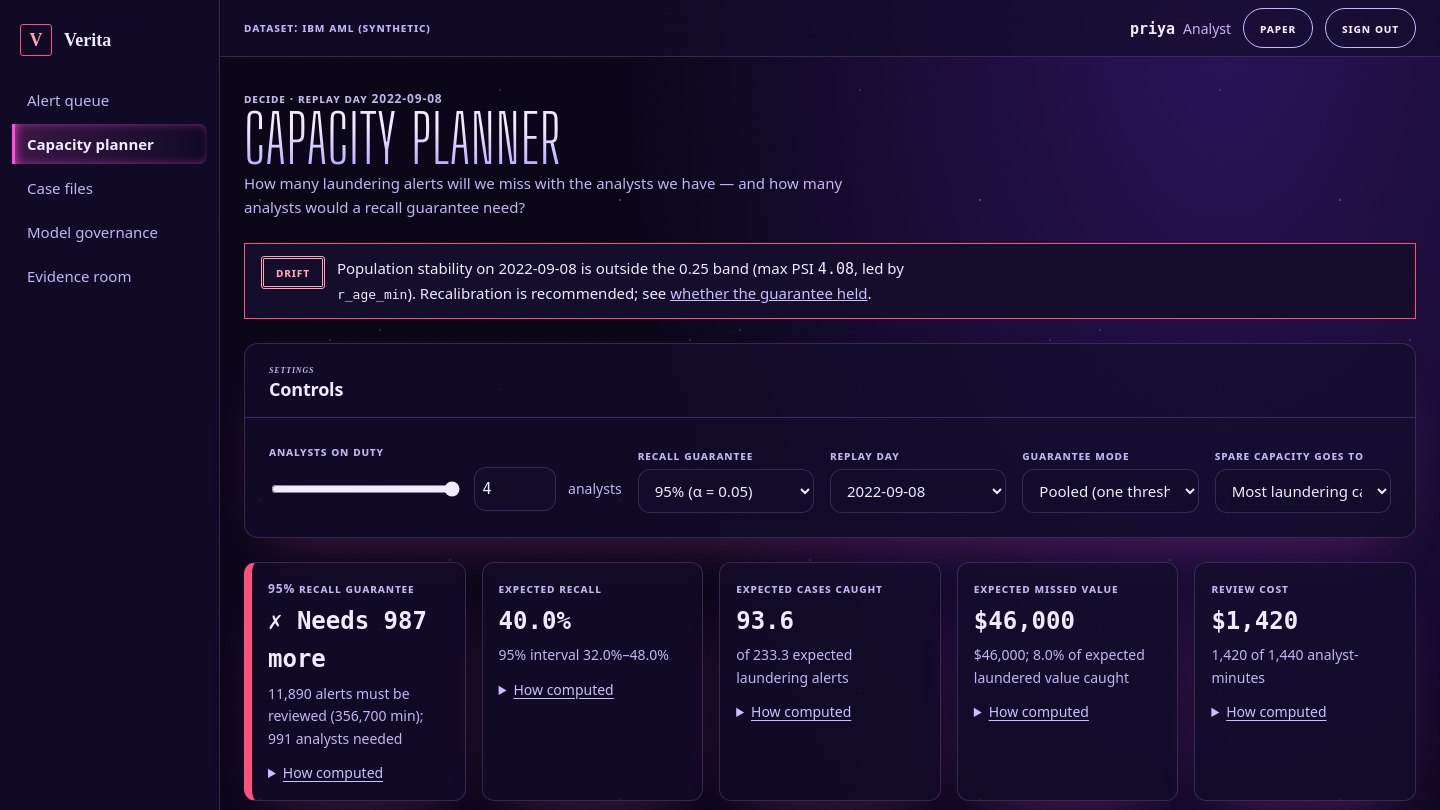
Test case: explains how each figure is computed
Click the heading "How computed" below "95% interval 32.0%–48.0%" at (564, 689), box [513,680,614,699]
(page scrolled)
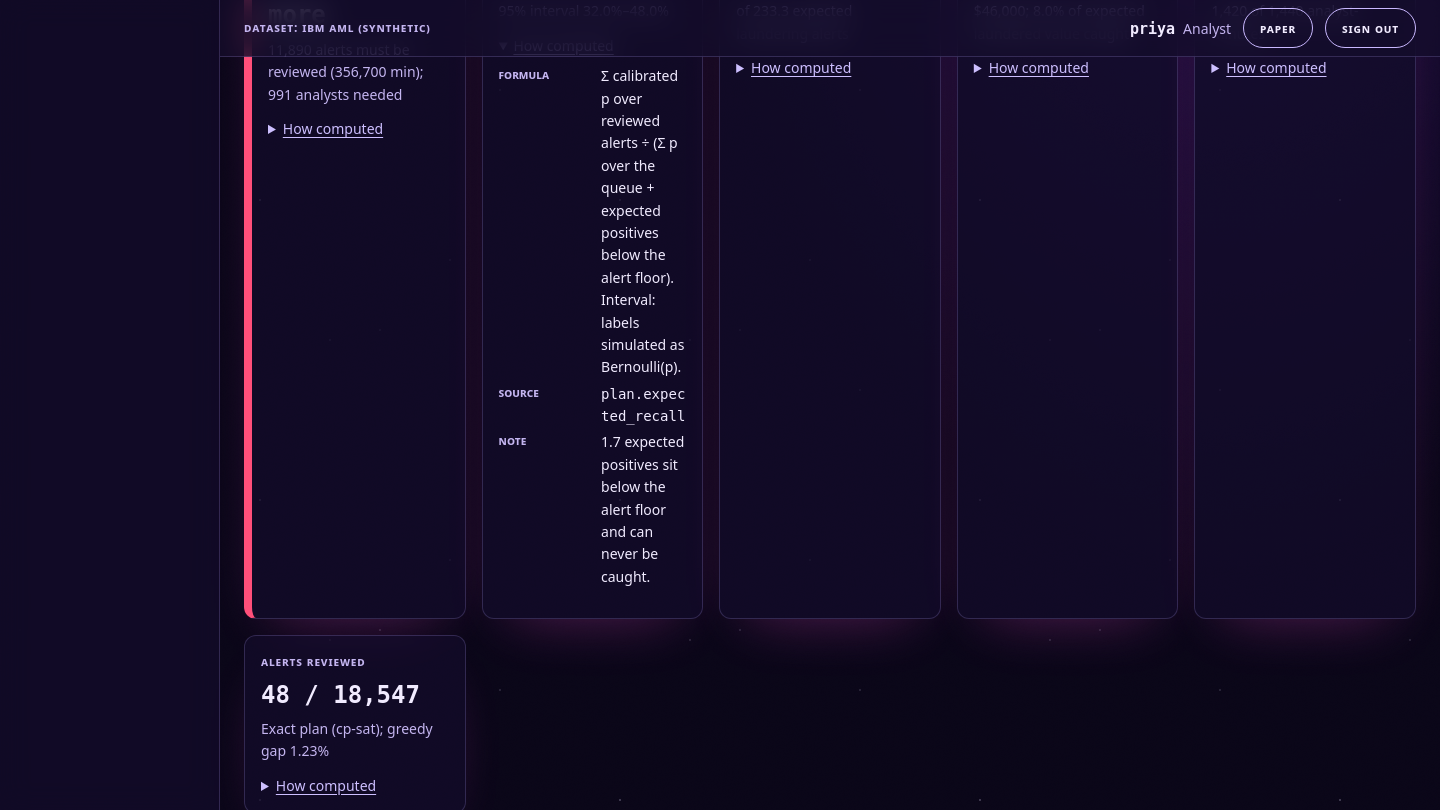
Now the text "plan.expected_recall" is shown, box [601,383,686,428]
